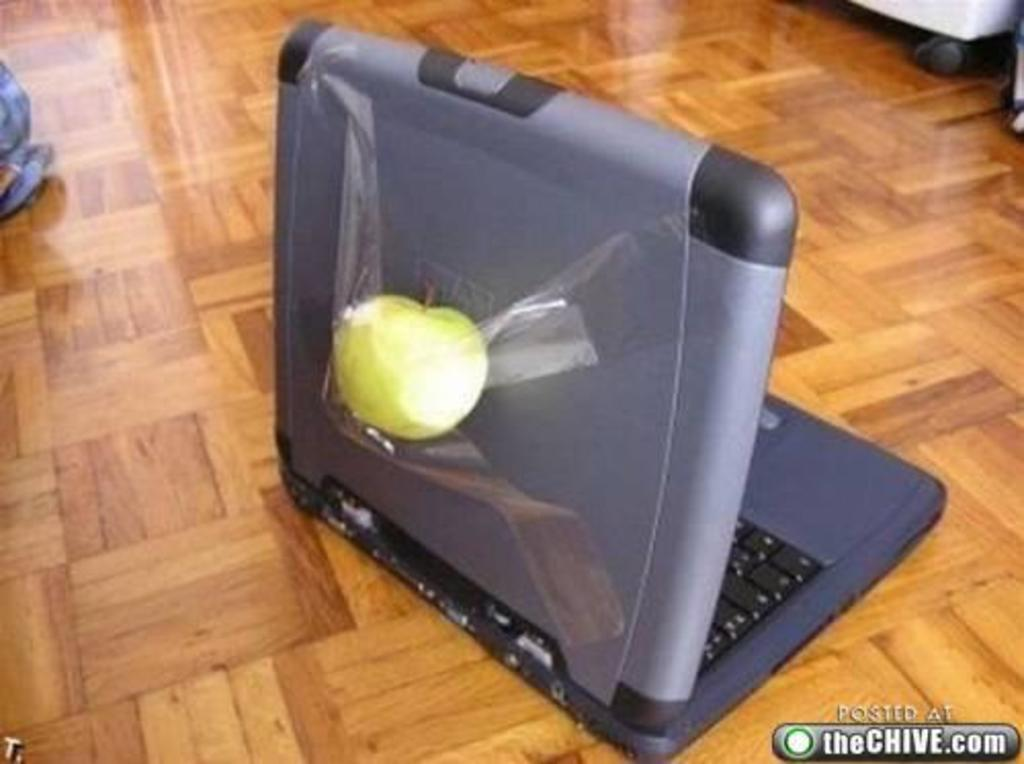Apple: (339, 296, 503, 462)
